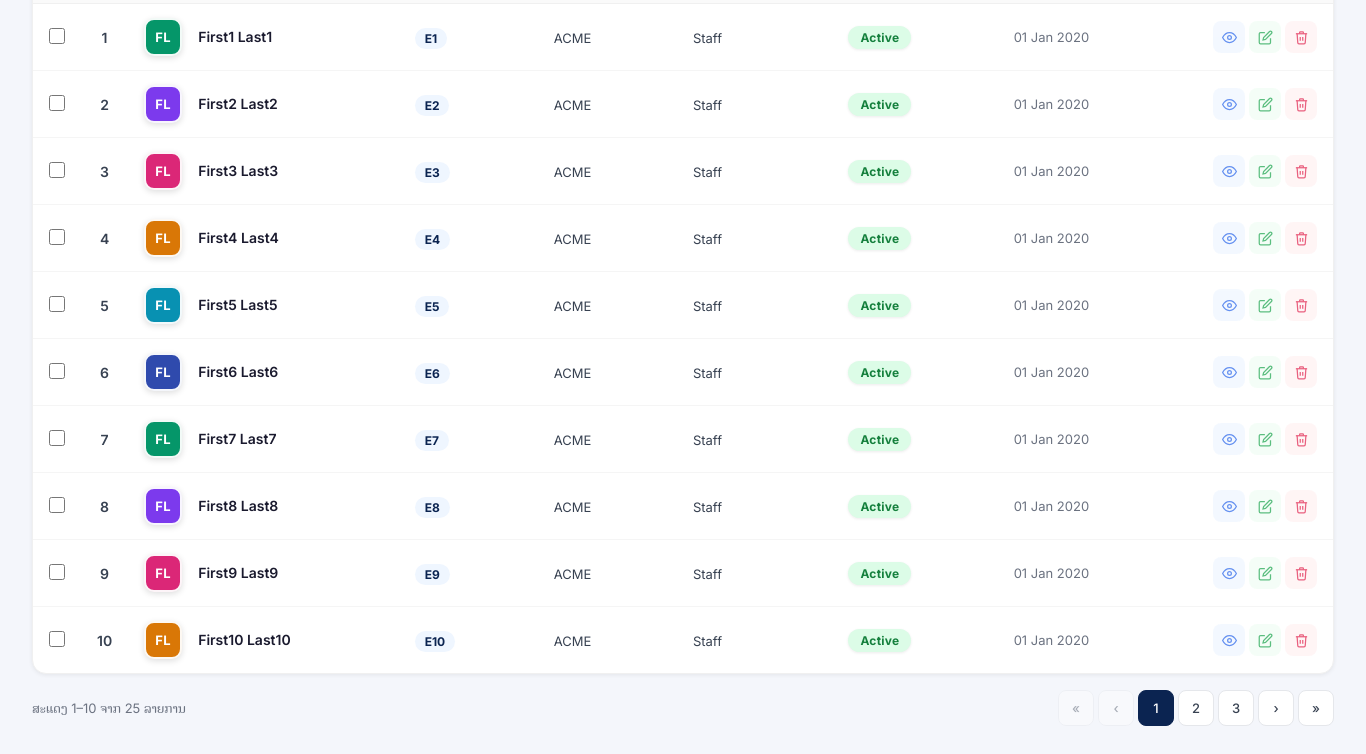
Test: Employees — pagination › disables the first/prev buttons on page 1 and last/next buttons on the last page
(page scrolled)
Expected: the button with class "emp-pg-btn" showing "«" is disabled, top-left (1058, 690), bottom-right (1094, 726)
Expected: the button with class "emp-pg-btn" showing "‹" is disabled, top-left (1098, 690), bottom-right (1134, 726)
Click the button with class "emp-pg-btn" showing "3" at (1236,708), box top-left (1218, 690), bottom-right (1254, 726)
(page scrolled)
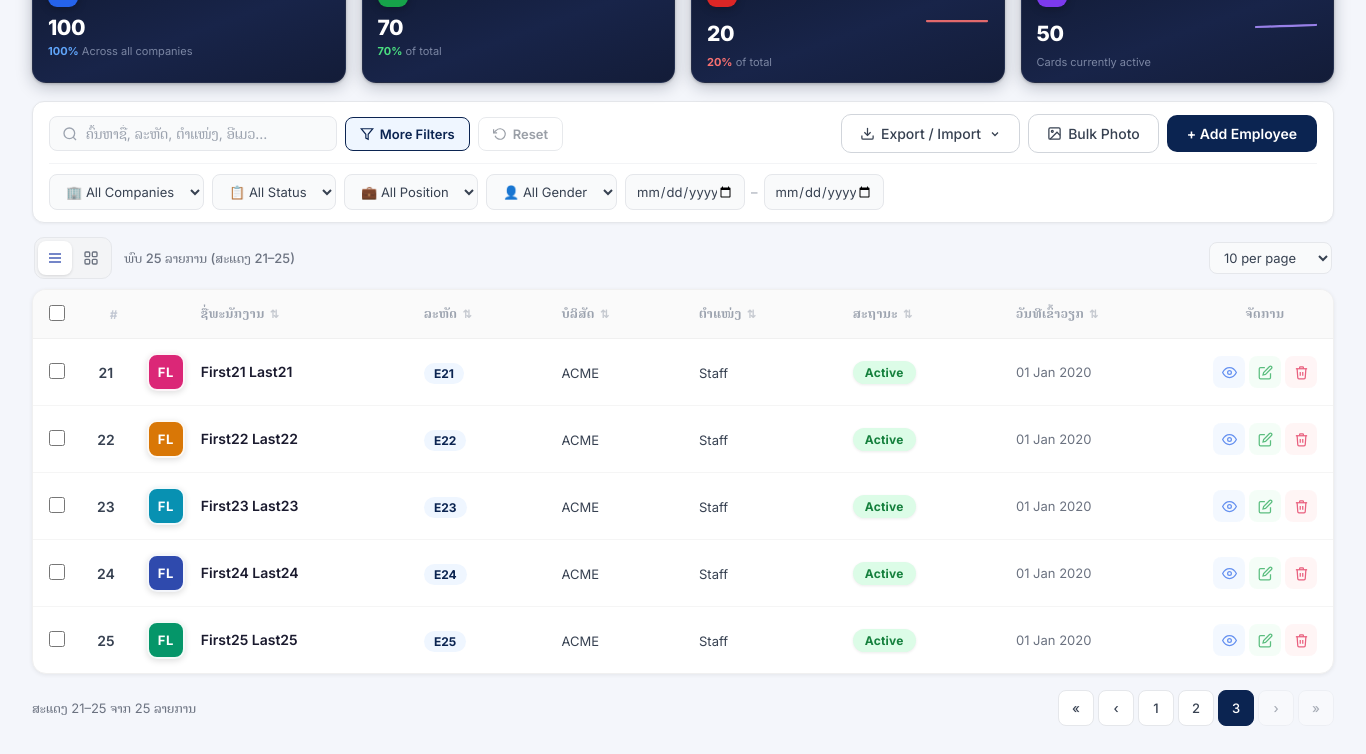
Expected: the button with class "emp-pg-btn" showing "»" is disabled, top-left (1298, 690), bottom-right (1334, 726)
Now the table with class "emp-table" shows "First21", box top-left (201, 363), bottom-right (246, 380)
